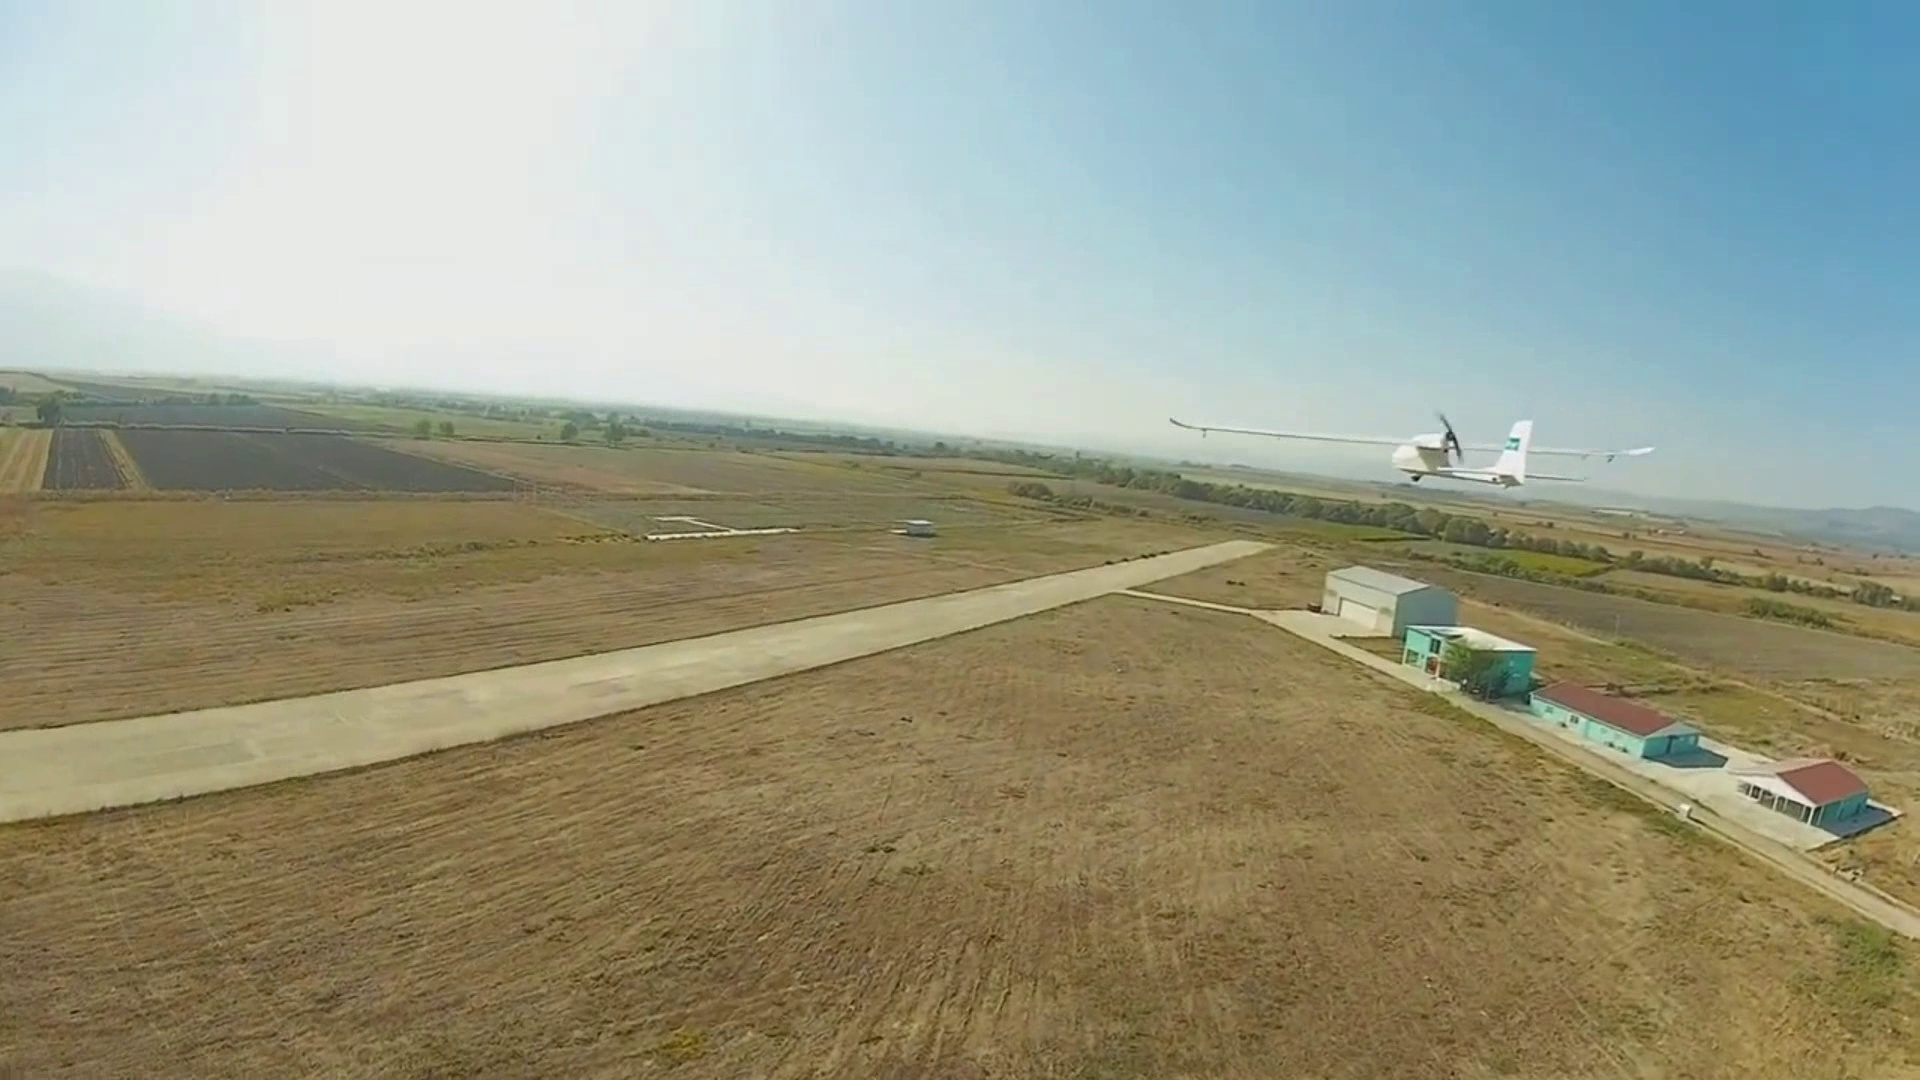airplane: (1164, 404, 1658, 491)
